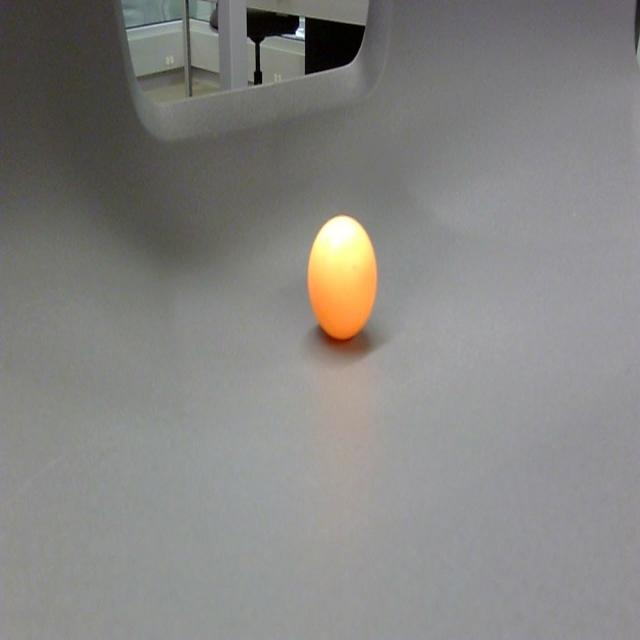ball: (306, 208, 380, 347)
